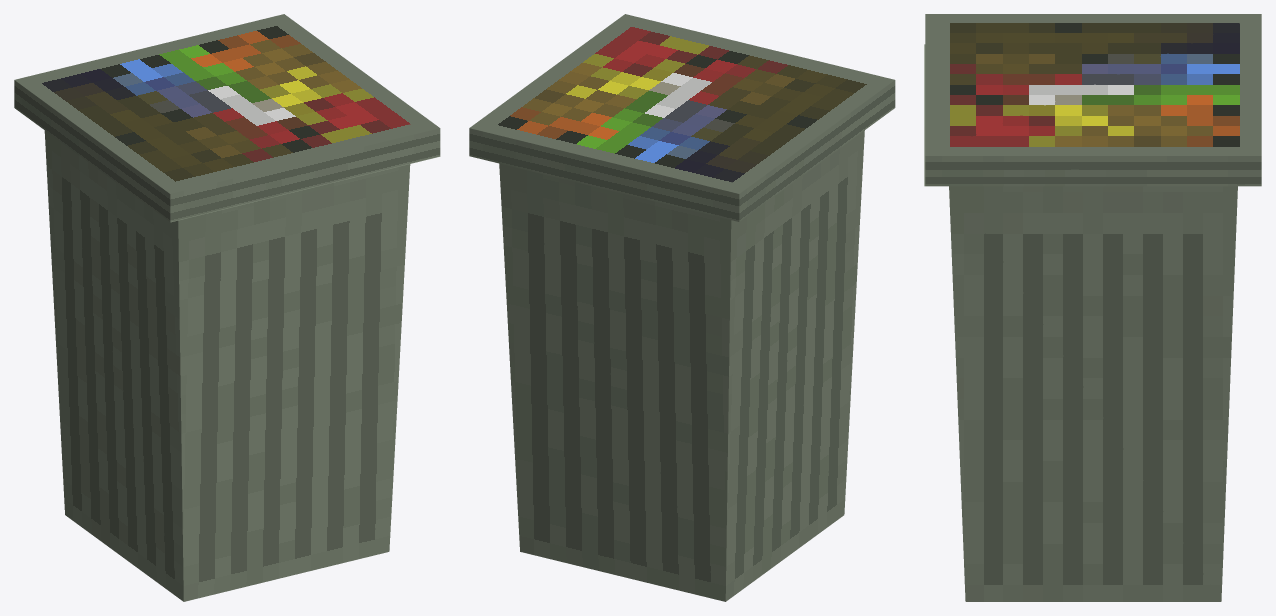
File: BGN_TRASH CAN(OPEN).fbx
The picture shows the model from 3 angles, left to right: view 1: azimuth 30°, elevation 25°; view 2: azimuth 150°, elevation 25°; view 3: azimuth 270°, elevation 25°; orthographic projection. The views are drawn at different scales.
Visible parts, largest first — view 1: BGN_TRASH_CAN_OPEN_; view 2: BGN_TRASH_CAN_OPEN_; view 3: BGN_TRASH_CAN_OPEN_.
Boxes of the visible parts, x1=… form: BGN_TRASH_CAN_OPEN_: x1=14, y1=14, x2=440, y2=601; BGN_TRASH_CAN_OPEN_: x1=469, y1=14, x2=895, y2=601; BGN_TRASH_CAN_OPEN_: x1=924, y1=14, x2=1261, y2=601.
Bounding box in the file's own units: 62.68 × 95.25 × 62.88.
Materials: 1 (1 with a texture image).
